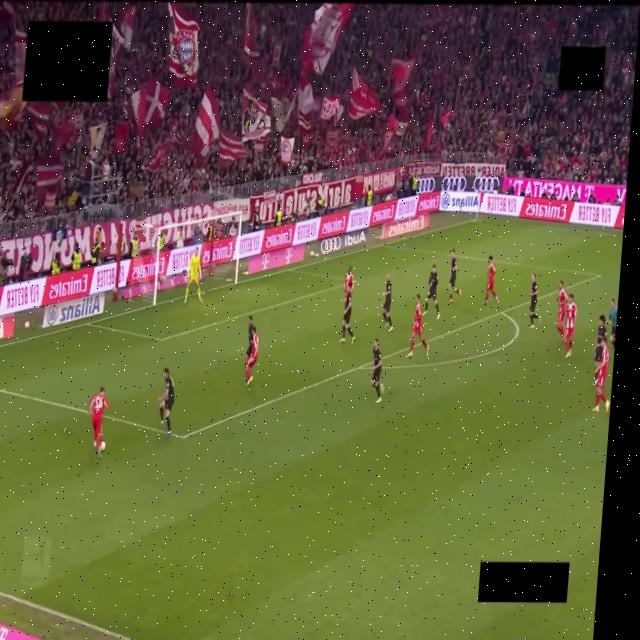ball: (100, 441, 105, 452)
player: (87, 387, 109, 457), (592, 340, 610, 412), (408, 294, 427, 357), (157, 368, 174, 436), (592, 315, 608, 386), (184, 250, 201, 303), (423, 265, 439, 319), (563, 293, 576, 357), (245, 325, 258, 385), (371, 339, 383, 402), (339, 291, 353, 344), (448, 249, 461, 303), (483, 256, 497, 305), (556, 281, 566, 339), (382, 273, 392, 331), (529, 274, 539, 328), (244, 316, 253, 366), (344, 267, 353, 294)
referee: (608, 300, 617, 347)
